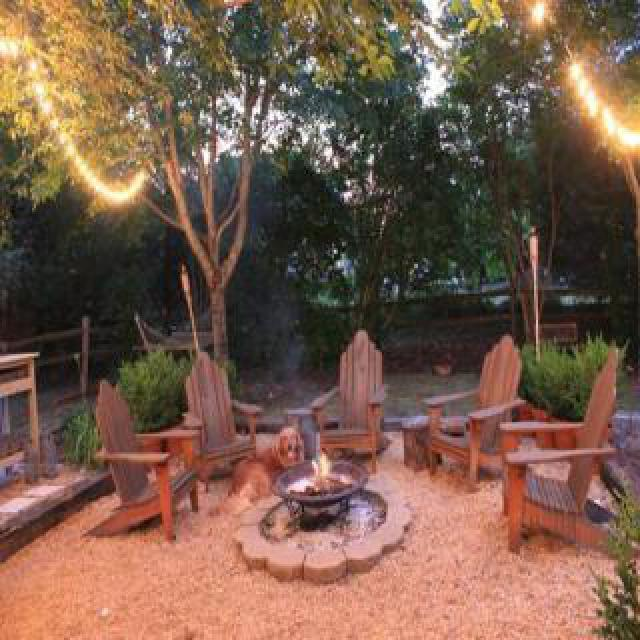Fire: (300, 450, 338, 500)
Smoke: (264, 288, 318, 446)
